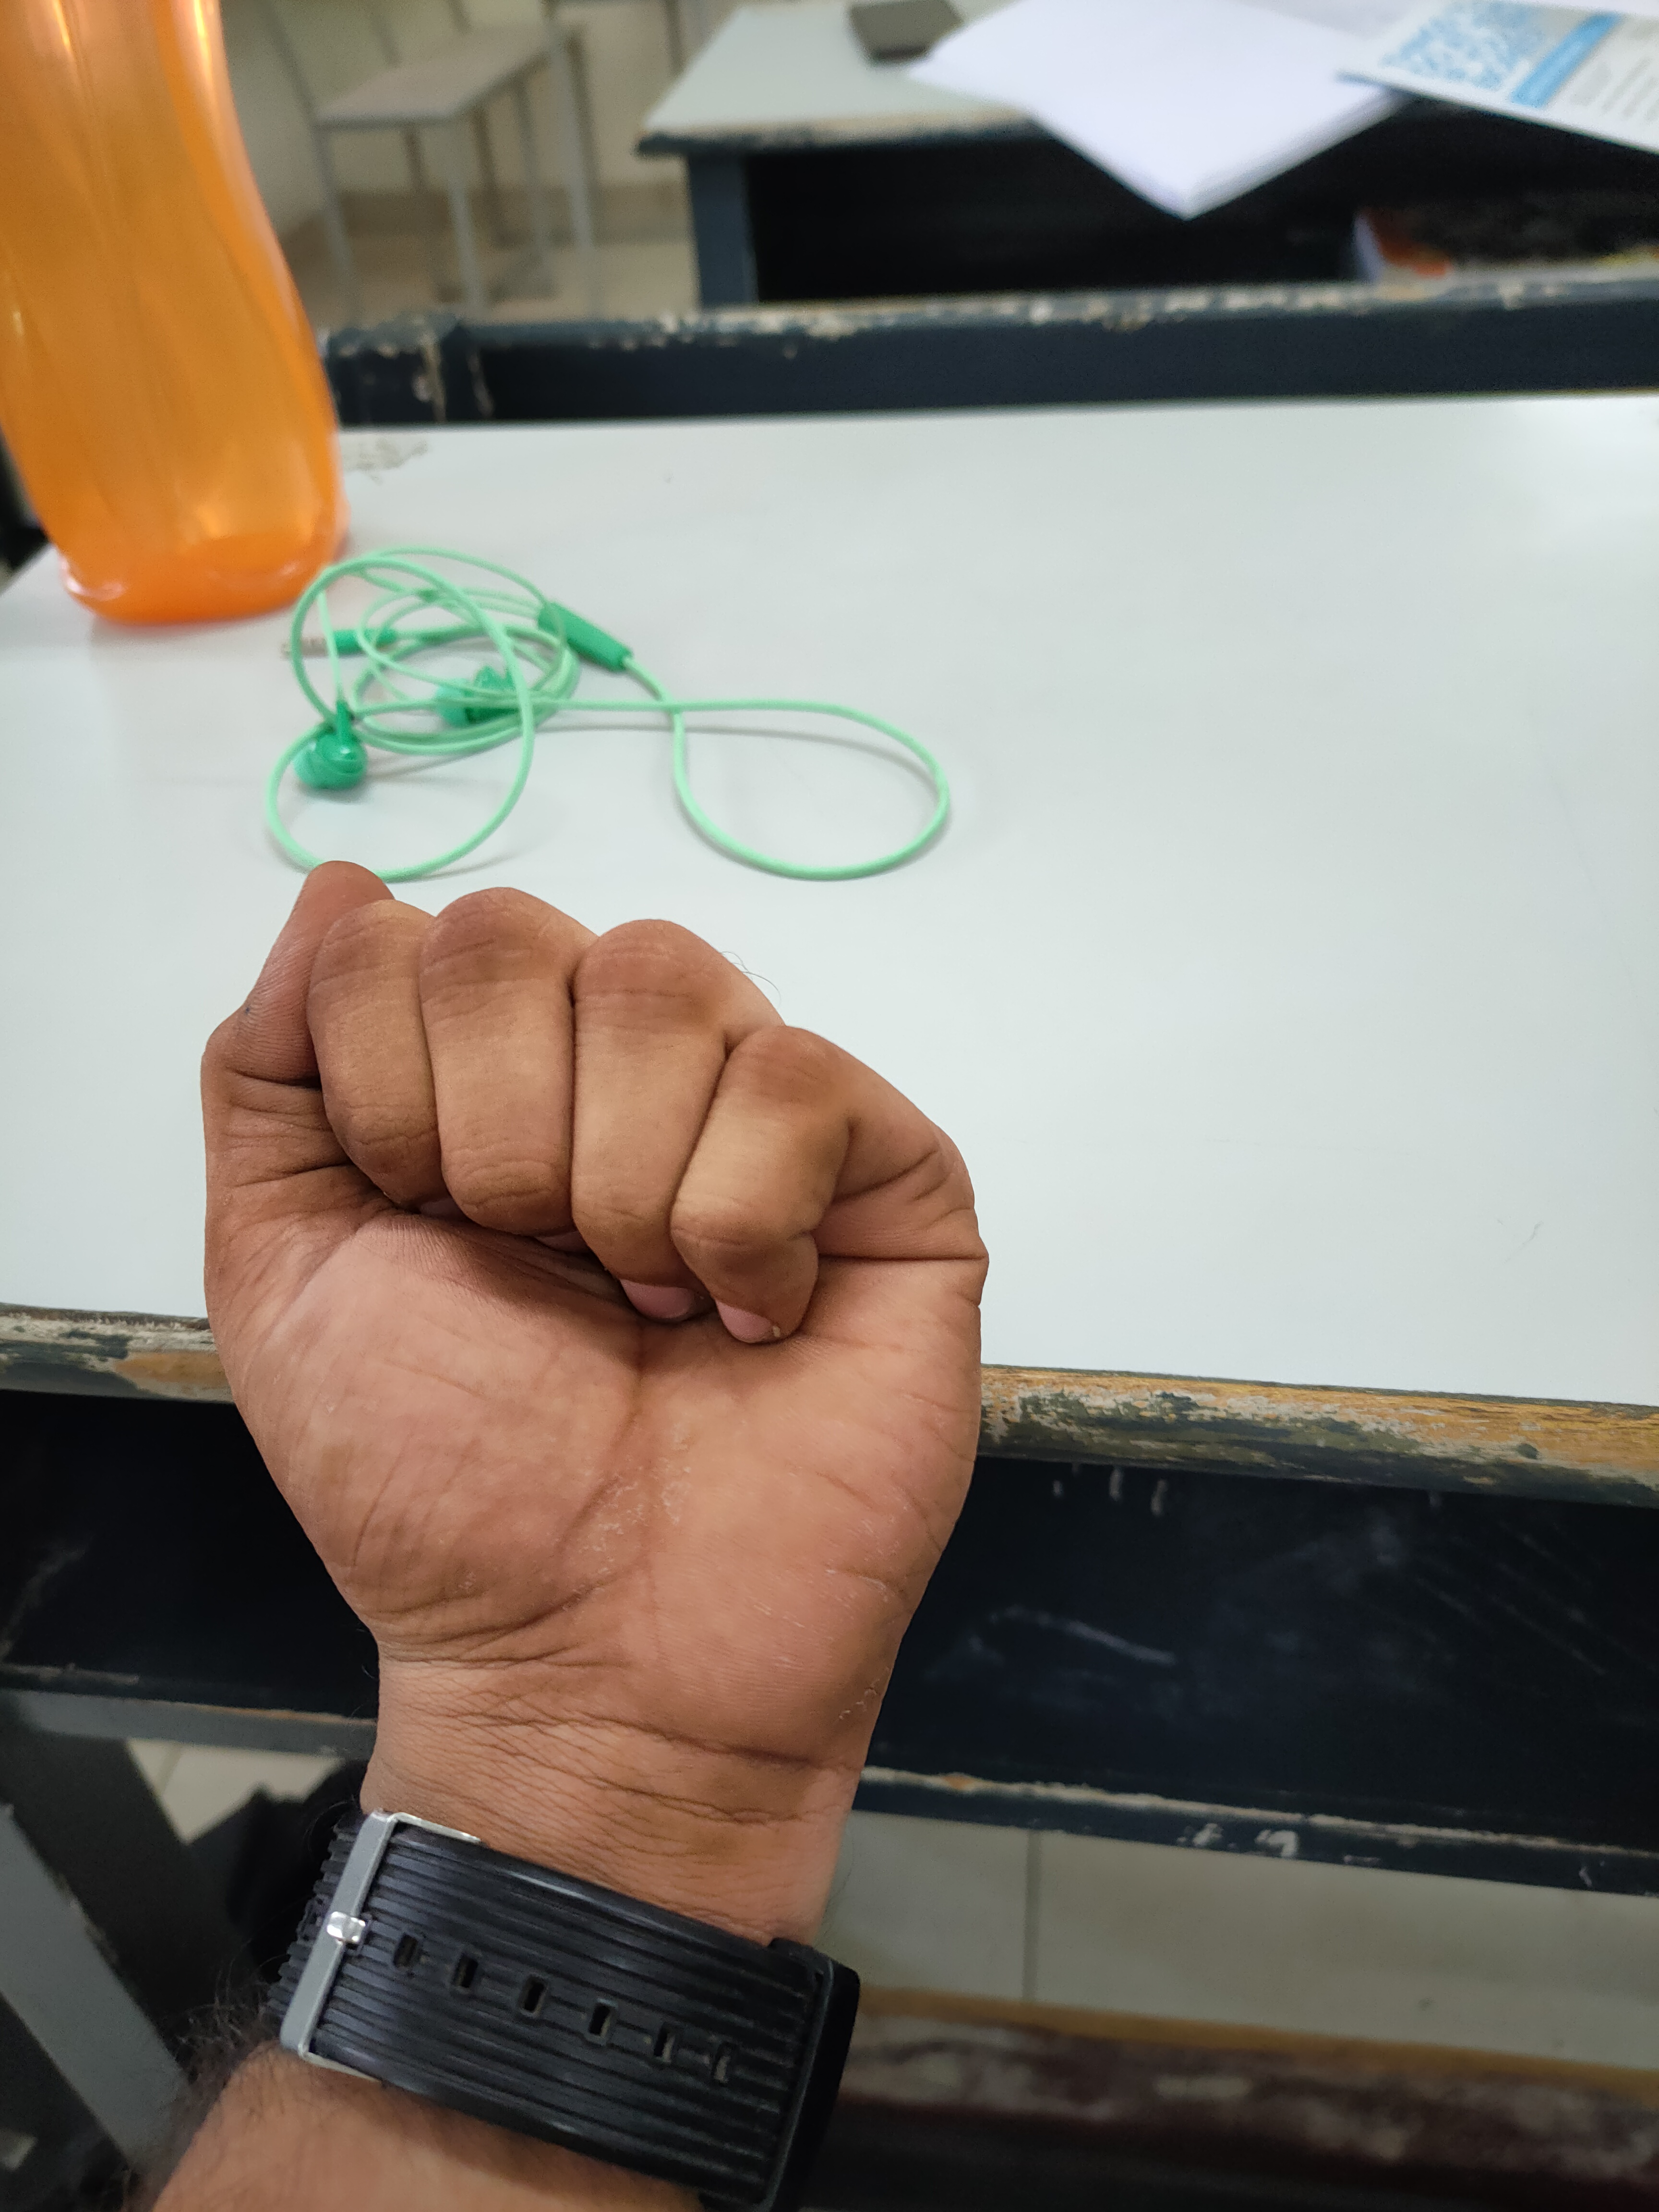A: (188, 857, 983, 1874)
